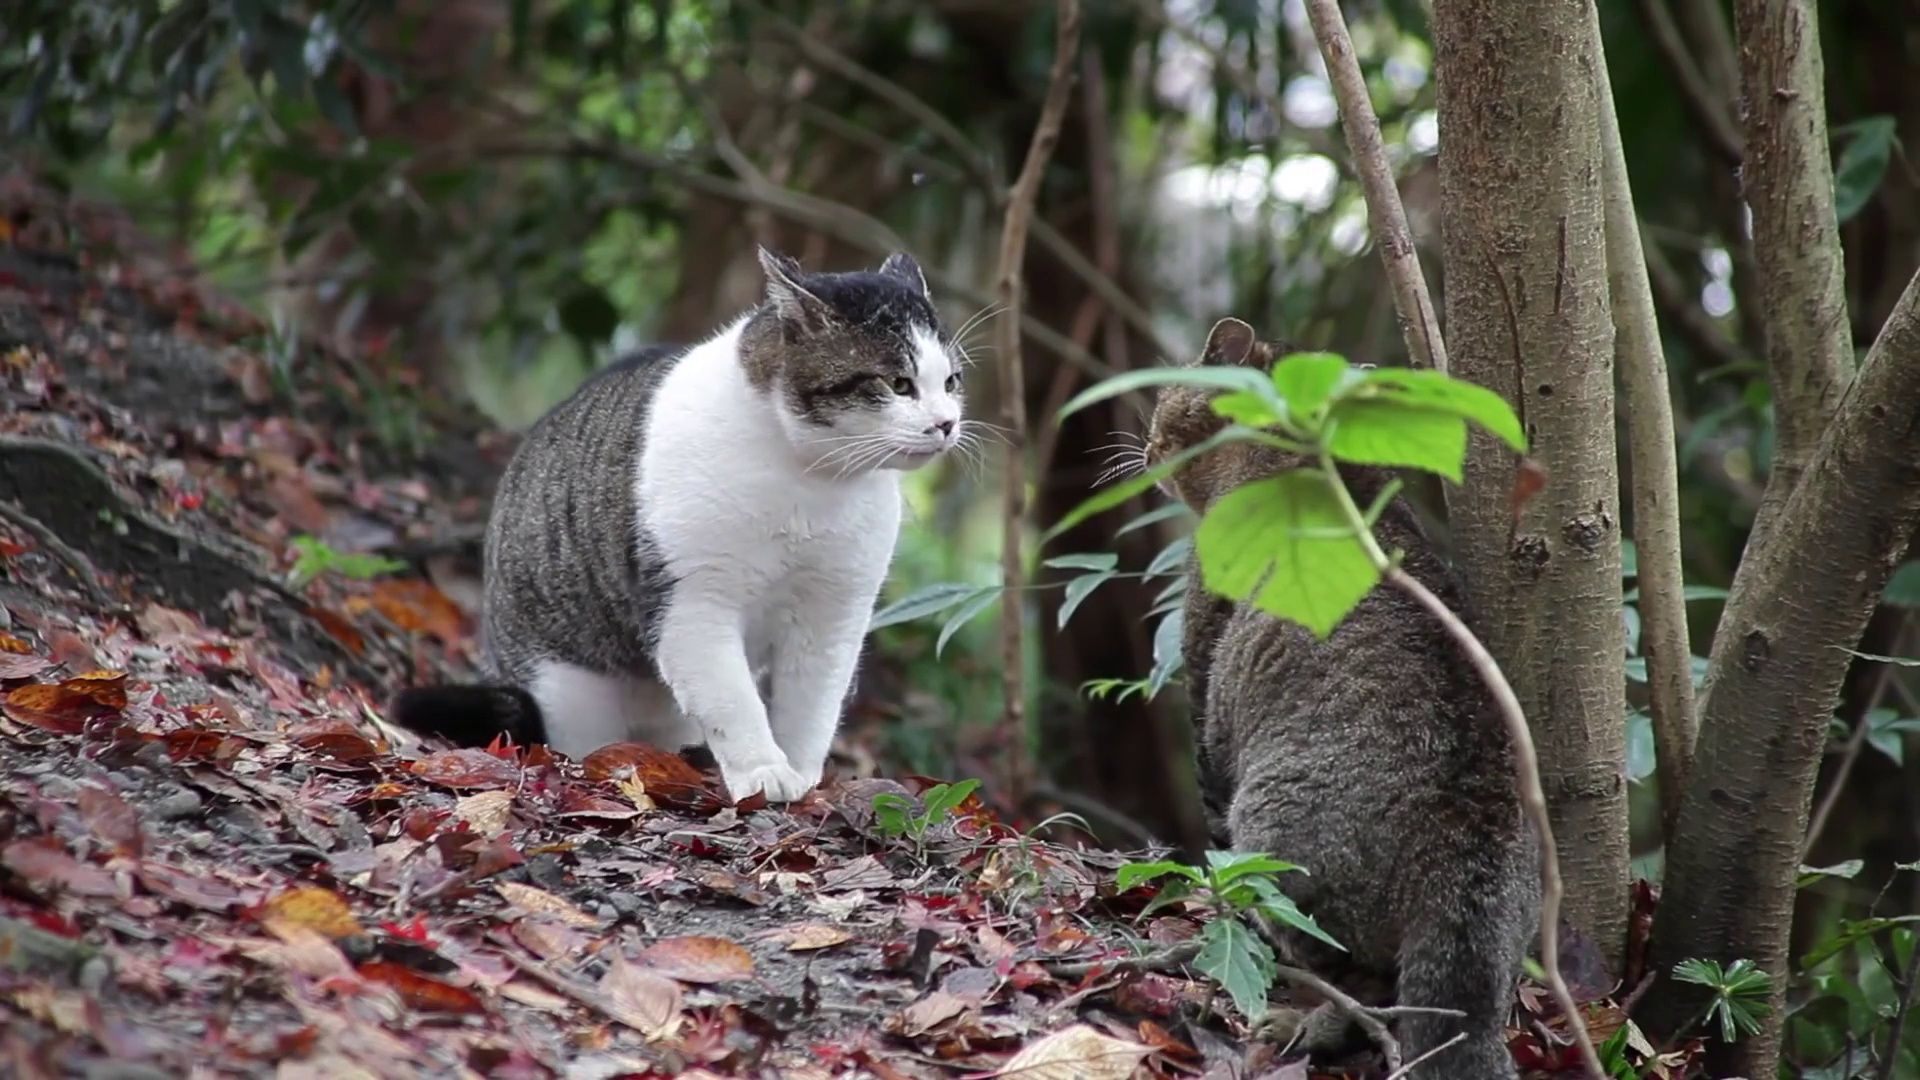black-white: (389, 241, 963, 806)
pure black: (1141, 315, 1538, 1080)
